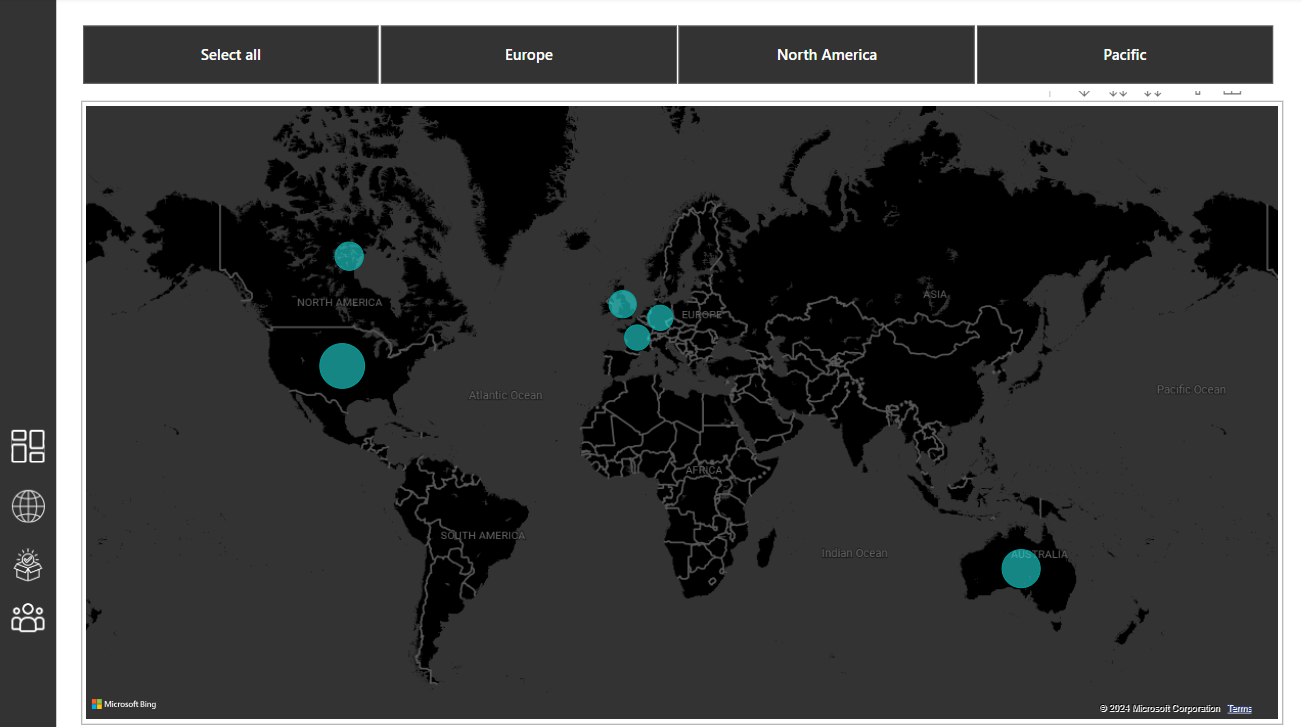

What the dashboard file says about the page in this screenshot:
{"tool":"powerbi","page":{"name":"Map","canvas":[1280,720],"ordinal":1},"visuals":[{"type":"shape","title":"Left Nav bg","box":[0,0,55,720.2],"z":0,"group":"g1"},{"type":"map","fields":{"Category":["Territory Lookup.Continent Hierarchy.Country","Territory Lookup.Continent Hierarchy.Region"],"Size":["Measure Lists.Total Orders"]},"box":[79.5,101.5,1175.1,610.2],"z":0},{"type":"slicer","fields":{"Values":["Territory Lookup.Continent"]},"box":[55,20.8,1214.3,70.9],"z":1000},{"type":"actionButton","box":[0,0,55,40.4],"z":2000},{"type":"group","id":"g1","title":"Side Bar Panel","box":[0,0,55,720.2],"z":3000},{"type":"actionButton","title":"Customer Button","box":[0,587,55,40.4],"z":3000,"group":"g1"},{"type":"actionButton","title":"Products Button","box":[0,535.6,55,40.4],"z":4000,"group":"g1"},{"type":"actionButton","title":"Map Button","box":[1.2,478.1,53.8,40.4],"z":5000,"group":"g1"},{"type":"actionButton","title":"Home Button","box":[0,419.4,55,40.4],"z":6000,"group":"g1"}]}

Visuals, with their boxes on the page's 1280x720 design canvas (x1, y1, x2, y2). These are canvas units, not pixel positions in the 1302x727 screenshot, which may show the page scaled, cropped or inside an application window:
"Left Nav bg" shape: 0, 0, 55, 720
map - Territory Lookup.Continent Hierarchy.Country x Territory Lookup.Continent Hierarchy.Region: 80, 102, 1255, 712
slicer - Territory Lookup.Continent: 55, 21, 1269, 92
actionButton: 0, 0, 55, 40
"Side Bar Panel" group: 0, 0, 55, 720
"Customer Button" actionButton: 0, 587, 55, 627
"Products Button" actionButton: 0, 536, 55, 576
"Map Button" actionButton: 1, 478, 55, 518
"Home Button" actionButton: 0, 419, 55, 460
